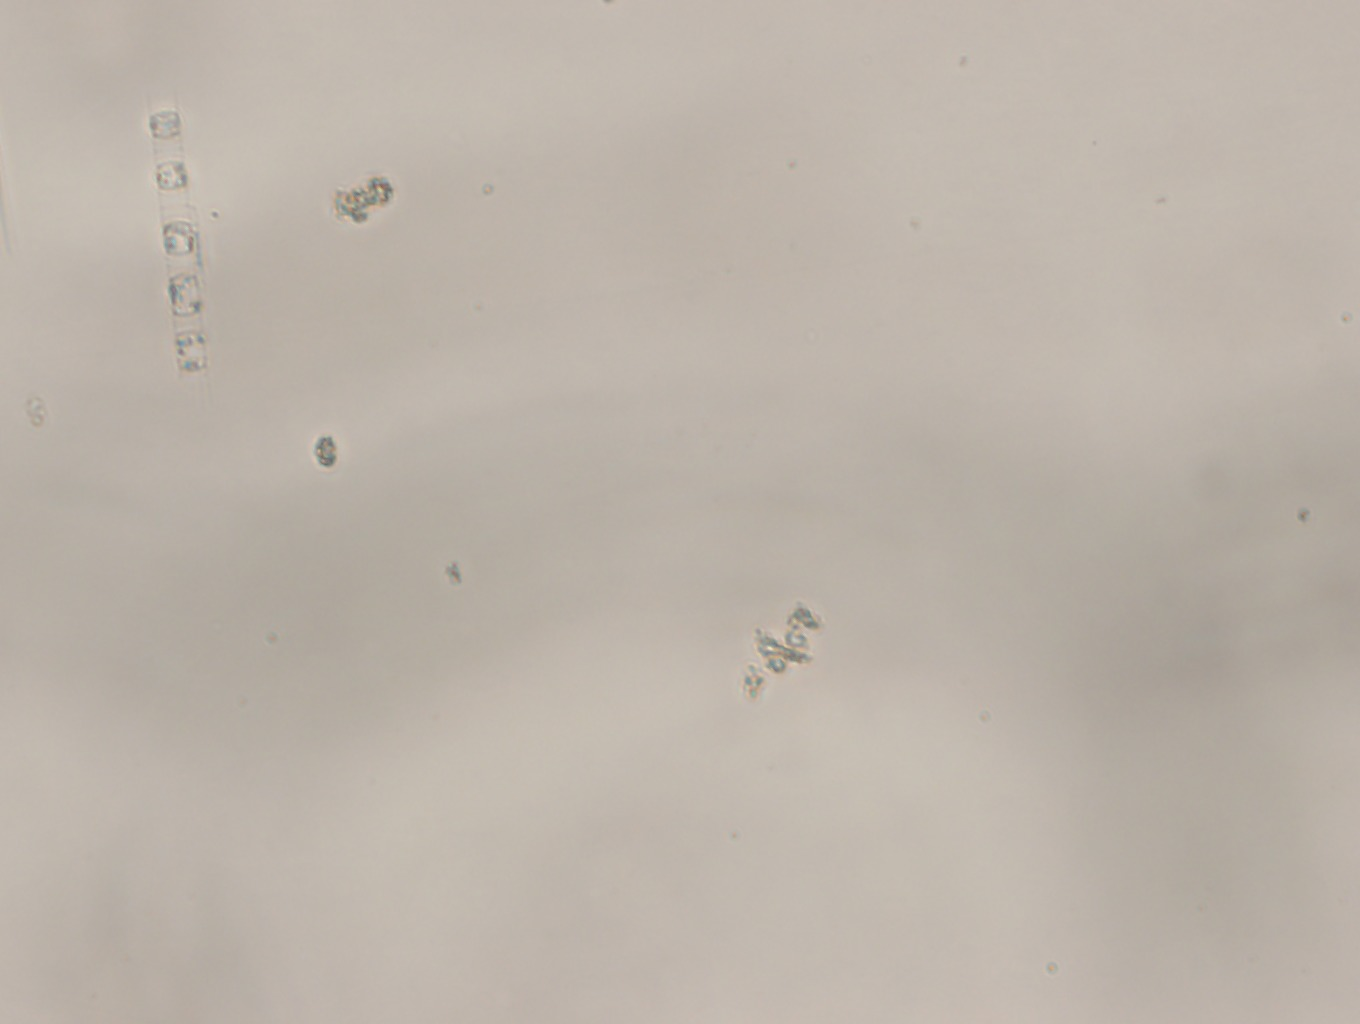skeletonema: (140, 94, 225, 387)
